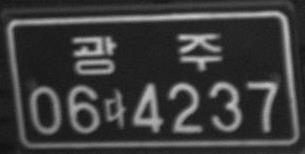0: (27, 84, 63, 137)
2: (166, 80, 205, 135)
3: (206, 79, 244, 134)
4: (129, 80, 165, 135)
6: (65, 83, 102, 135)
7: (244, 79, 281, 134)
광주_D: (68, 28, 225, 76)
다: (103, 87, 128, 130)
